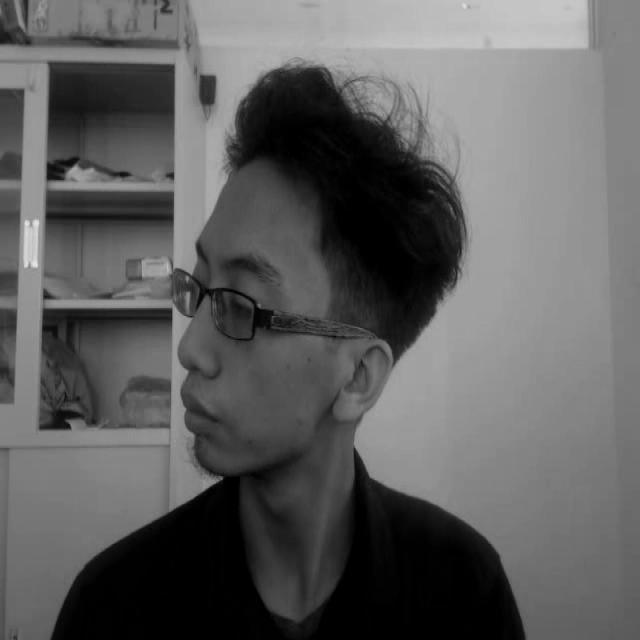real: (152, 48, 478, 483)
